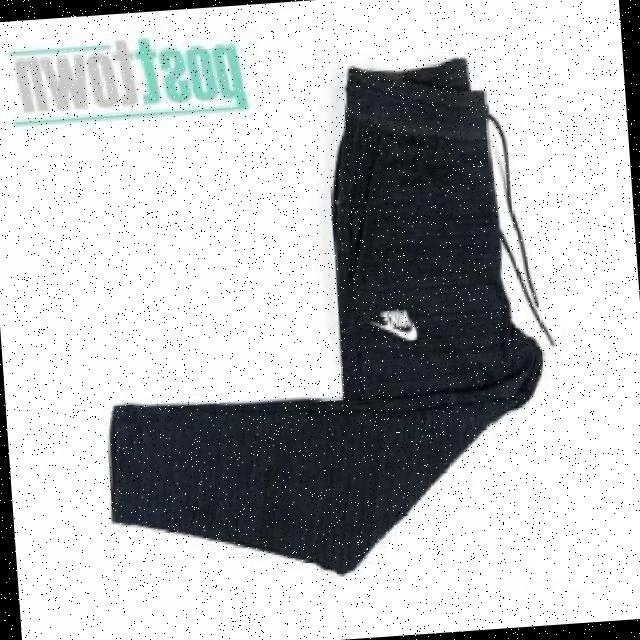Nike: (372, 304, 420, 343)
